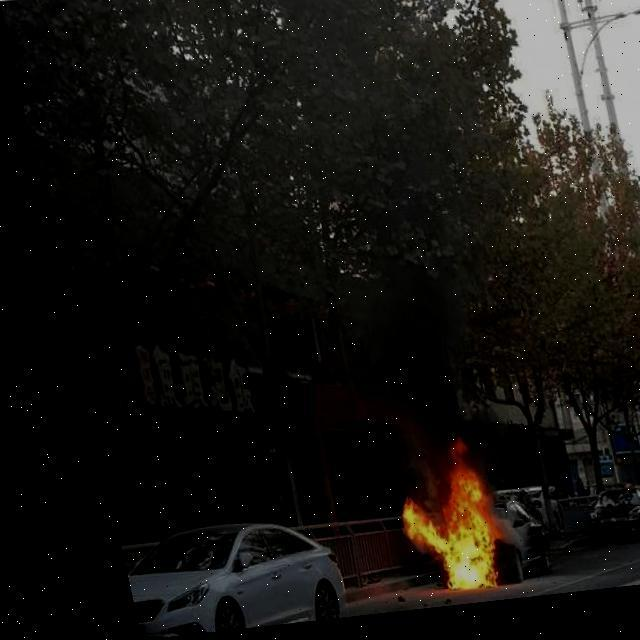Fire: (361, 442, 478, 604)
